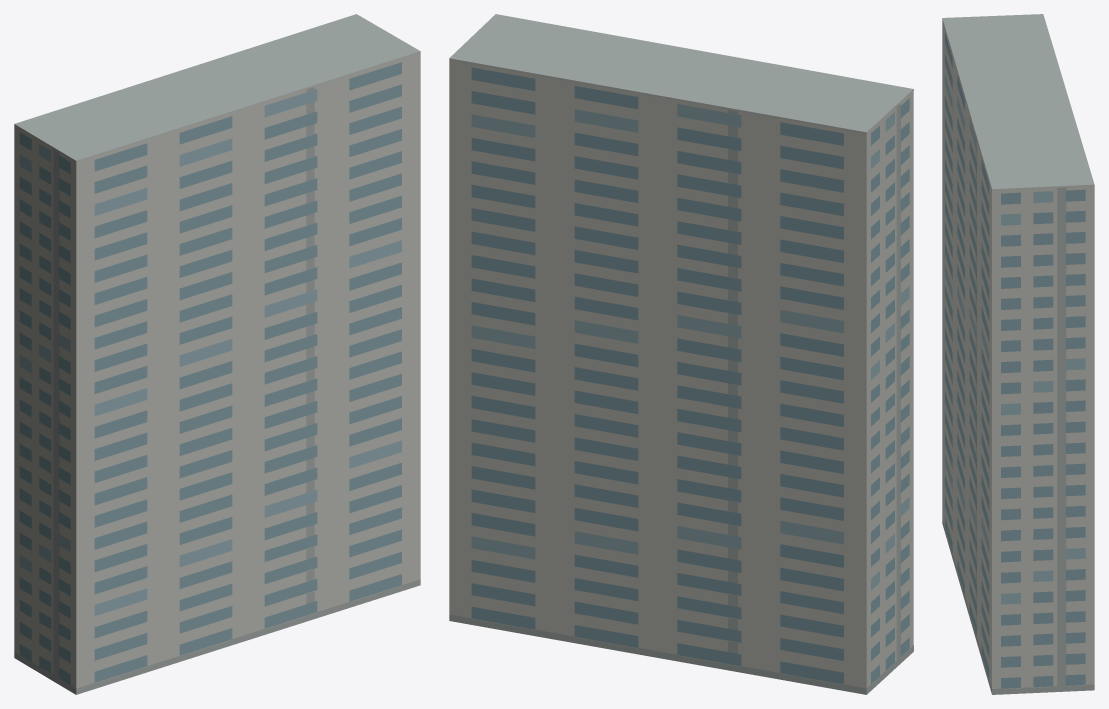
Rendered from residential-0777aeb9-703f-4e5a-807f-13150b91293c.glb.
3 renders of one model, left to right at view 1: azimuth 30°, elevation 25°; view 2: azimuth 150°, elevation 25°; view 3: azimuth 270°, elevation 25°, orthographic. The views are drawn at different scales.
Visible parts, largest first — view 1: residential-0777aeb9-703f-4e5a-807f-13150b91293c.tmp; view 2: residential-0777aeb9-703f-4e5a-807f-13150b91293c.tmp; view 3: residential-0777aeb9-703f-4e5a-807f-13150b91293c.tmp.
Boxes of the visible parts, x1,y1,x2,y2 form: residential-0777aeb9-703f-4e5a-807f-13150b91293c.tmp: [14, 14, 420, 694]; residential-0777aeb9-703f-4e5a-807f-13150b91293c.tmp: [449, 14, 913, 694]; residential-0777aeb9-703f-4e5a-807f-13150b91293c.tmp: [942, 14, 1094, 694].
Size of the model in its own units: 50.53 by 68 by 18.56.
